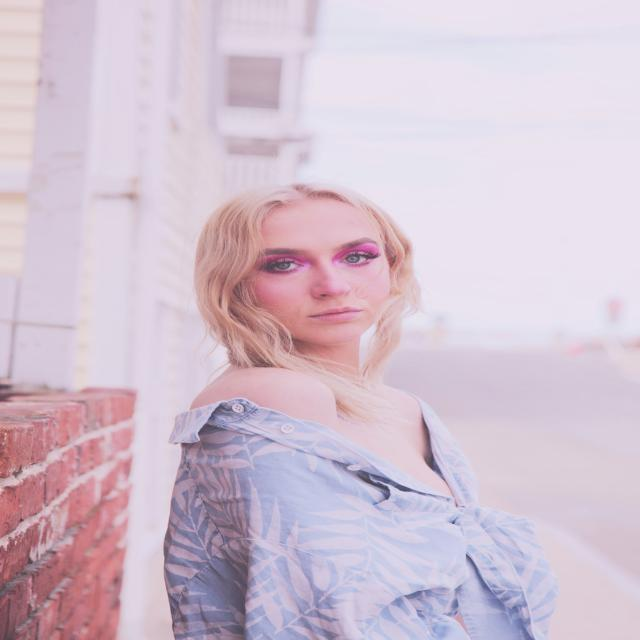adult: (145, 179, 526, 640)
